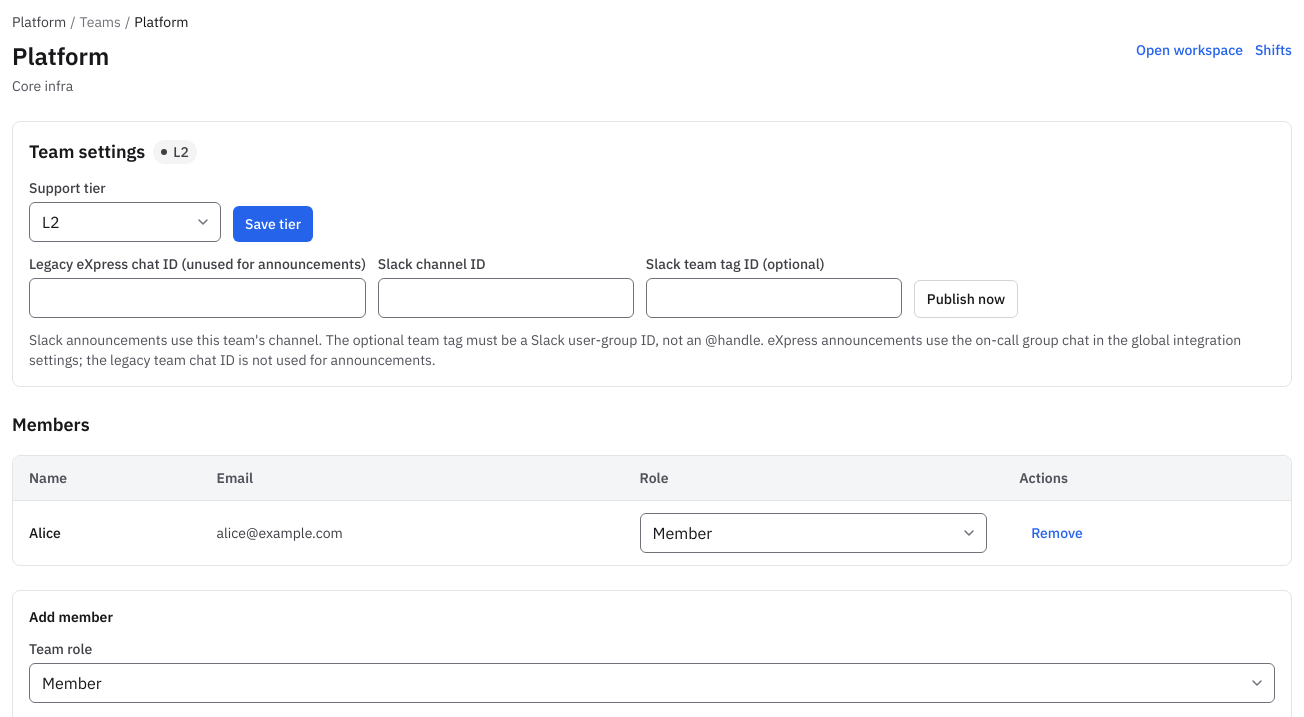
Test case: TeamDetailPage › removes a member
This screenshot has width=1304, height=717.
Expected: the text "Alice" is shown, [13,500,200,565]
Click the button "Remove" at (1057, 533), box [1019,515,1095,551]
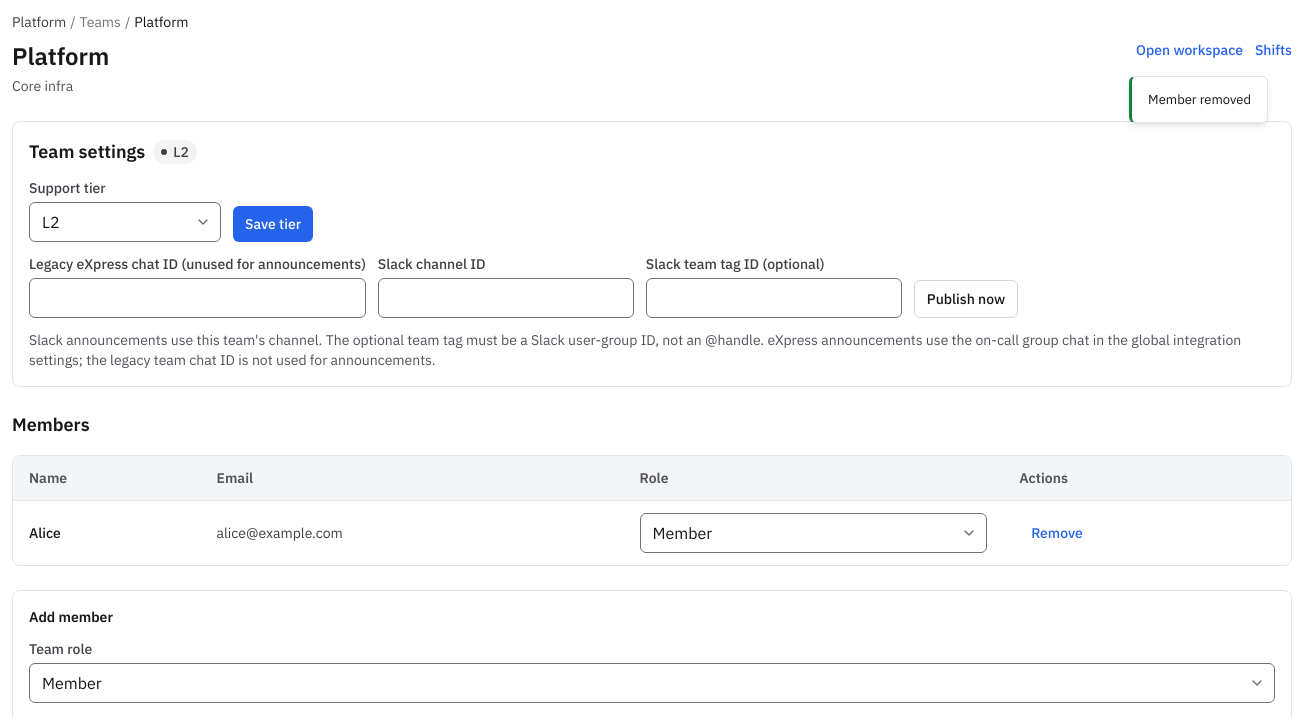
Result: the text "Member removed" is shown at [1129,76,1268,123]
